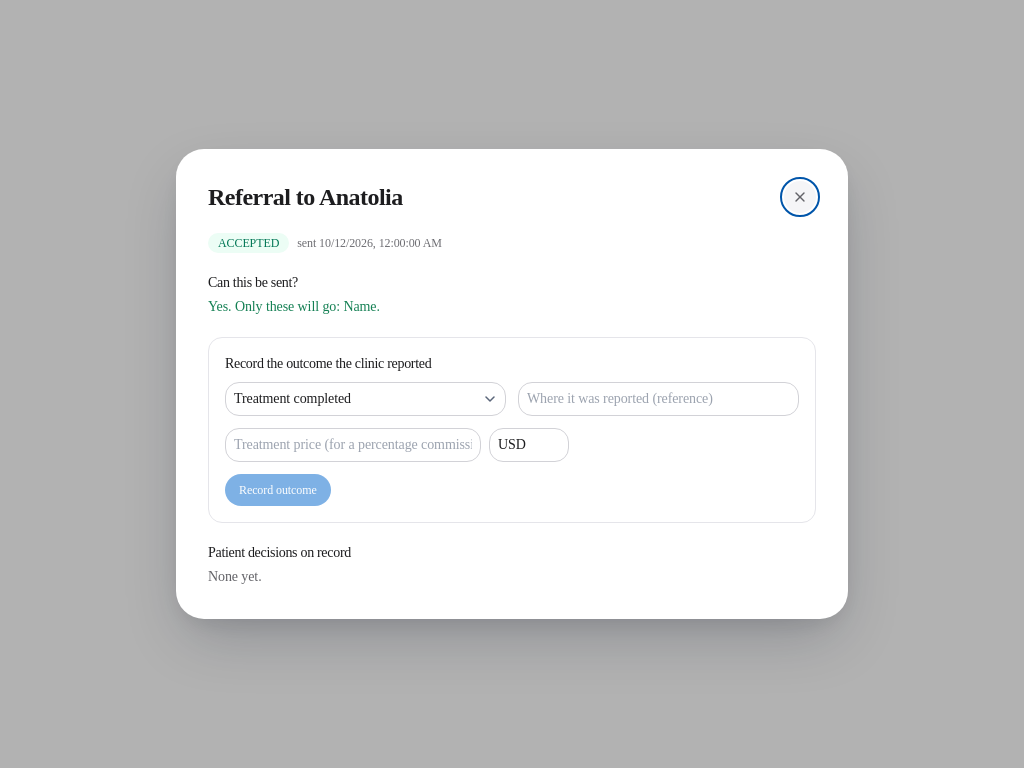
Test: Referral outcome › sends the treatment price with a completed treatment and tells the owner the invoice is ready
Type "Clinic email" into the field named "Where the clinic reported it" at (658, 399), box [518, 382, 799, 416]
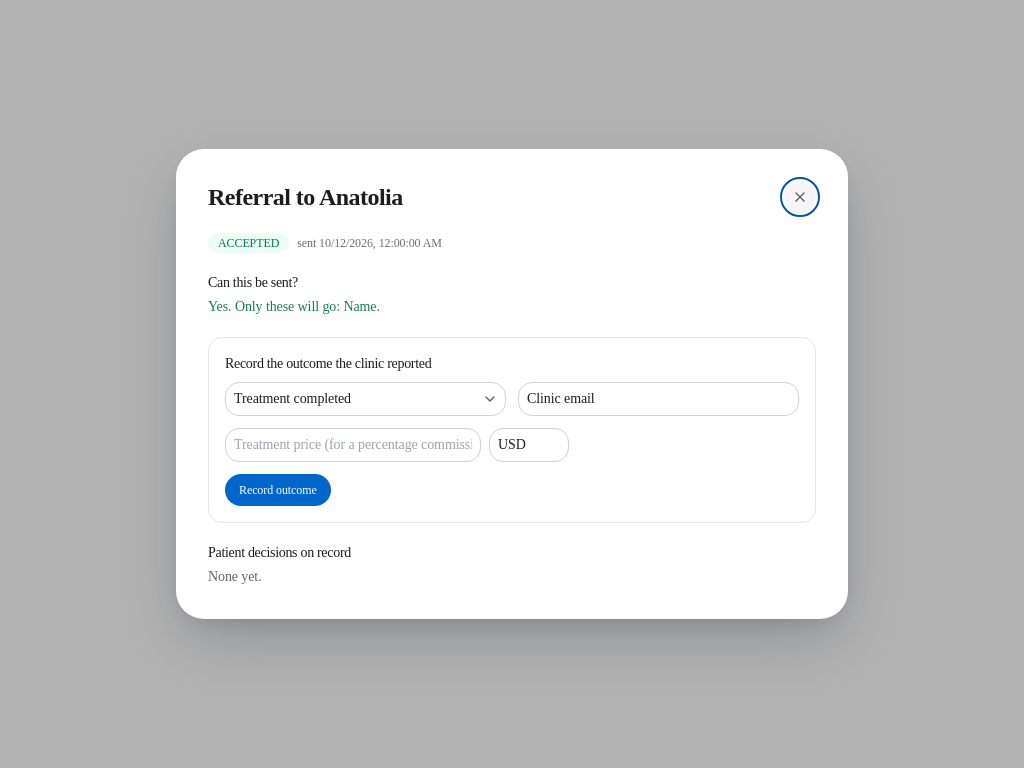
Type "4000" into the field labelled "Treatment price" at (353, 445), box [225, 428, 481, 462]
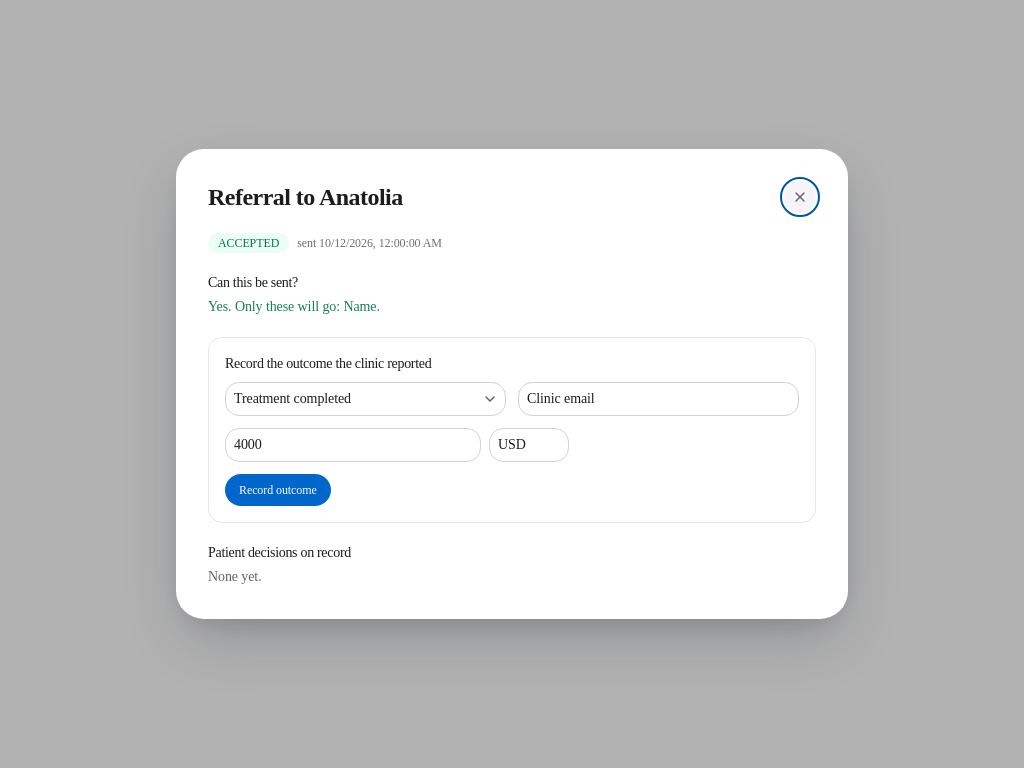
Click the button "Record outcome" at (278, 490), box [225, 474, 331, 506]
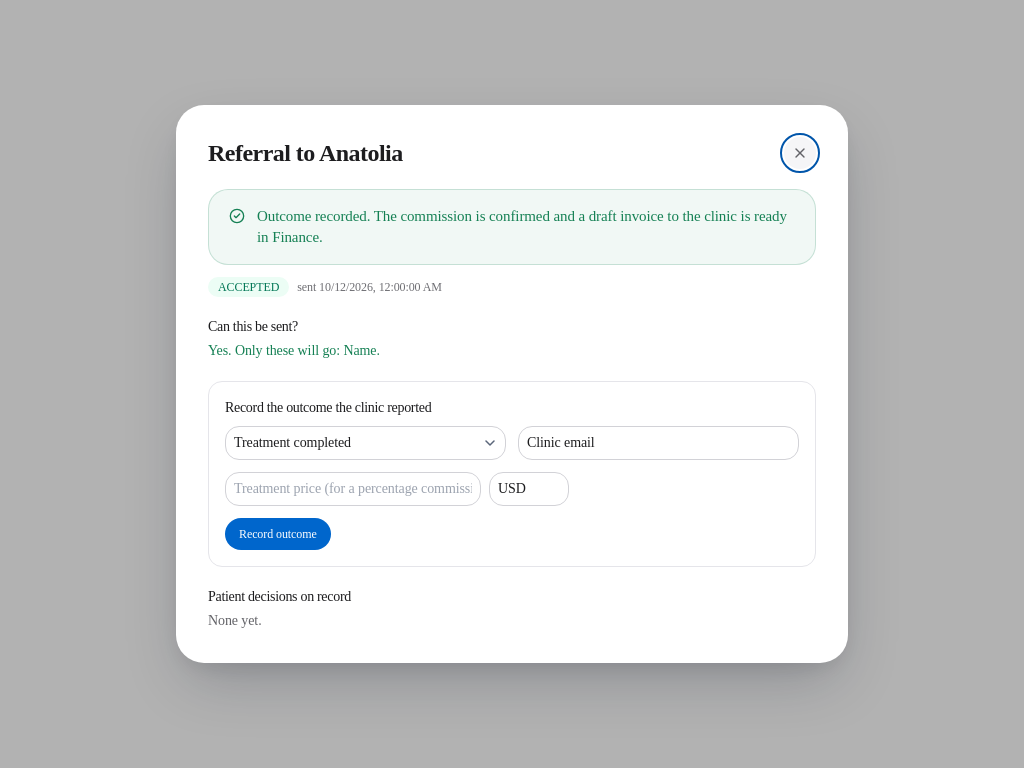
expect the text "draft invoice to the clinic is ready in Finance" is shown: met, box [257, 208, 787, 245]
